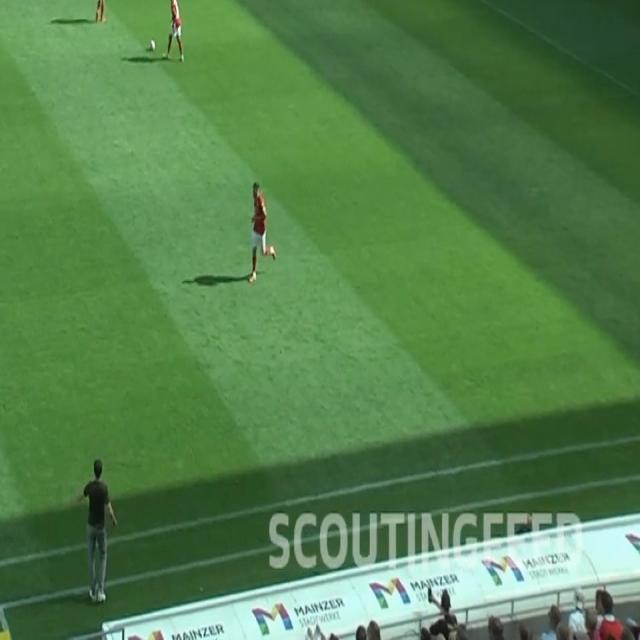ball: (149, 38, 156, 52)
